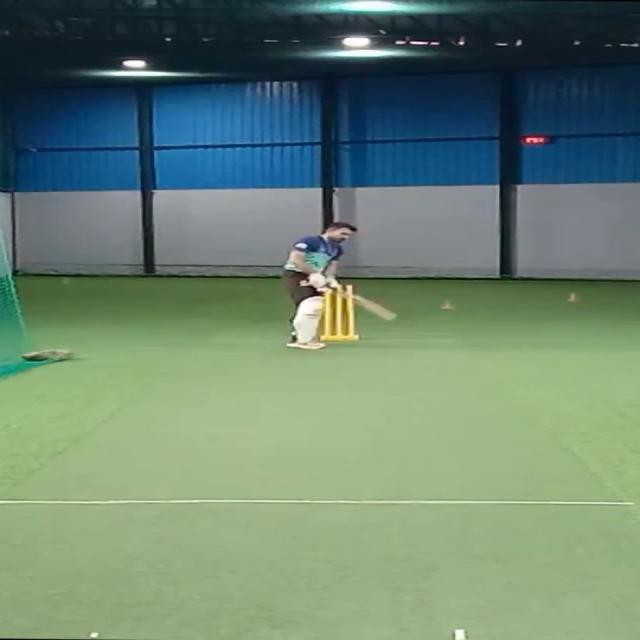stump: (322, 280, 364, 341)
